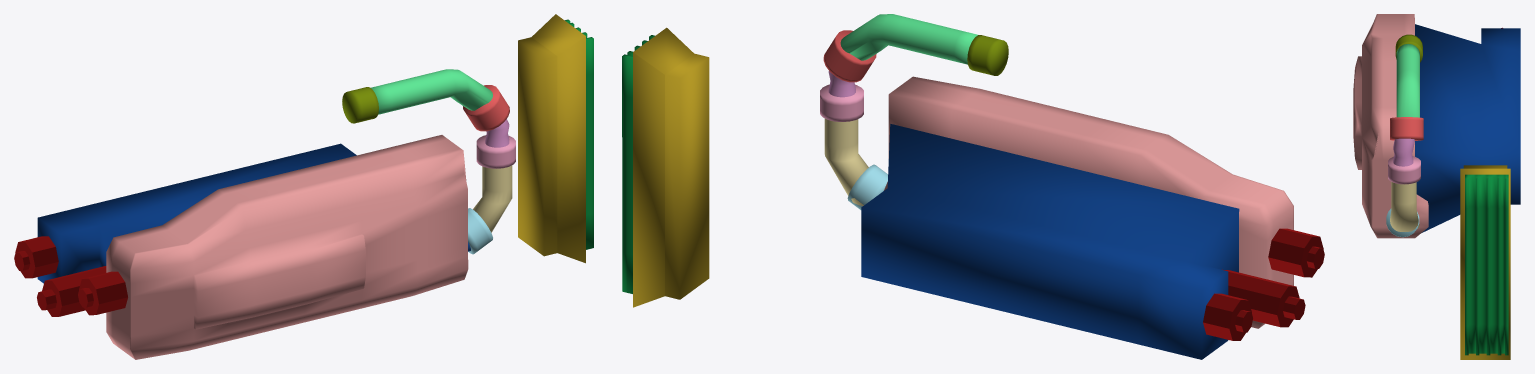
File: atego_detail.obj
3 views of the same model, side by side, from view 1: azimuth 30°, elevation 25°; view 2: azimuth 150°, elevation 25°; view 3: azimuth 270°, elevation 25° (orthographic). The views are drawn at different scales.
Visible parts, largest first — view 1: detail; view 2: detail; view 3: detail.
Boxes of the visible parts, x1,y1,x2,y2 form: detail: (14,14,593,359); detail: (622,14,1324,359); detail: (1353,14,1520,359).
Size of the model in its own units: 1.99 by 0.8652 by 0.6071.
